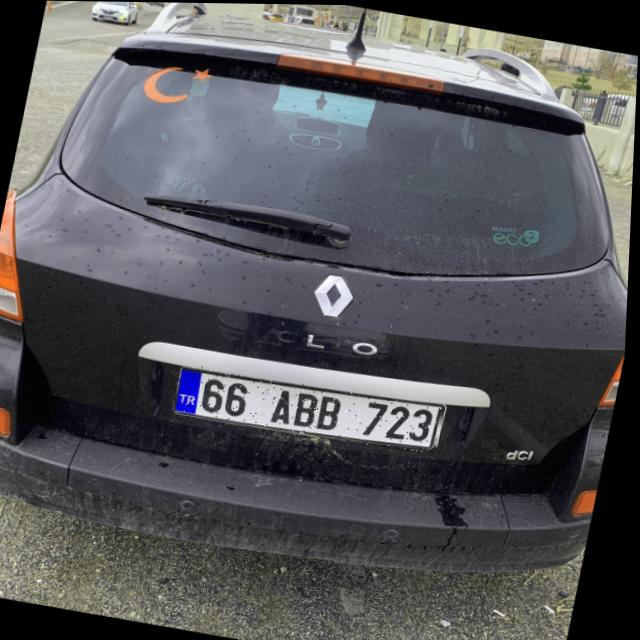license_plate: (177, 363, 450, 455)
